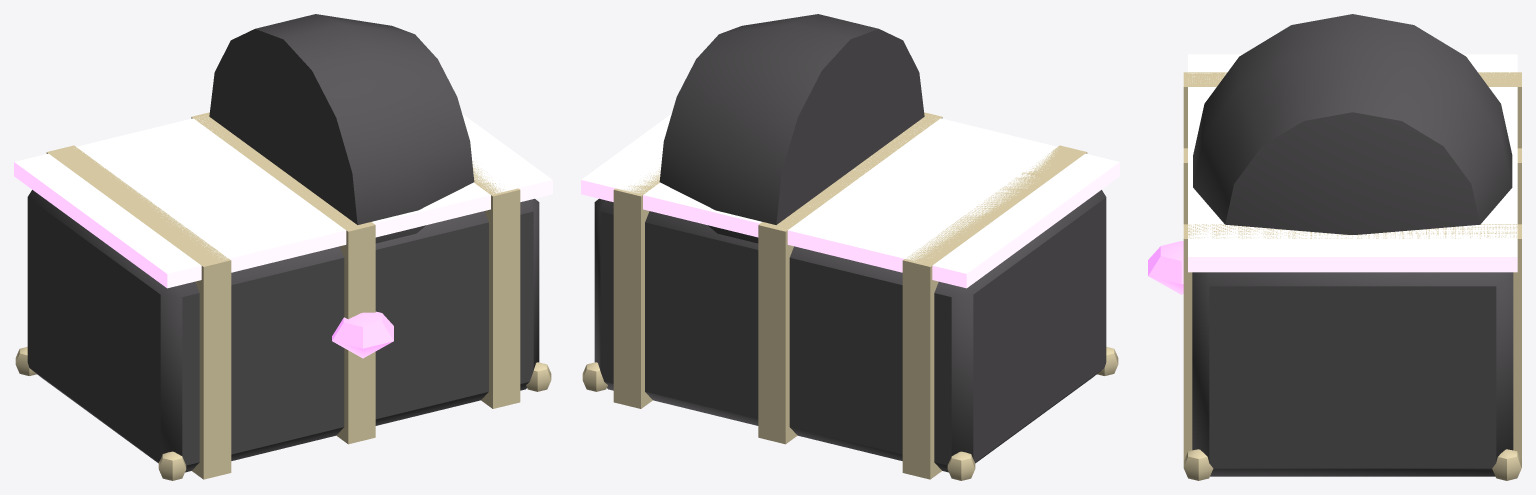
Rendered from relic_cache_radiant.glb.
3 renders of one model, left to right at view 1: azimuth 30°, elevation 25°; view 2: azimuth 150°, elevation 25°; view 3: azimuth 270°, elevation 25°, orthographic. The views are drawn at different scales.
Visible parts, largest first — view 1: relic_cache_radiant; view 2: relic_cache_radiant; view 3: relic_cache_radiant.
Boxes of the visible parts, x1=… form: relic_cache_radiant: x1=14, y1=14, x2=552, y2=480; relic_cache_radiant: x1=581, y1=14, x2=1119, y2=480; relic_cache_radiant: x1=1148, y1=14, x2=1521, y2=480.
Bounding box in the file's own units: 0.114 × 0.0955 × 0.0873.
